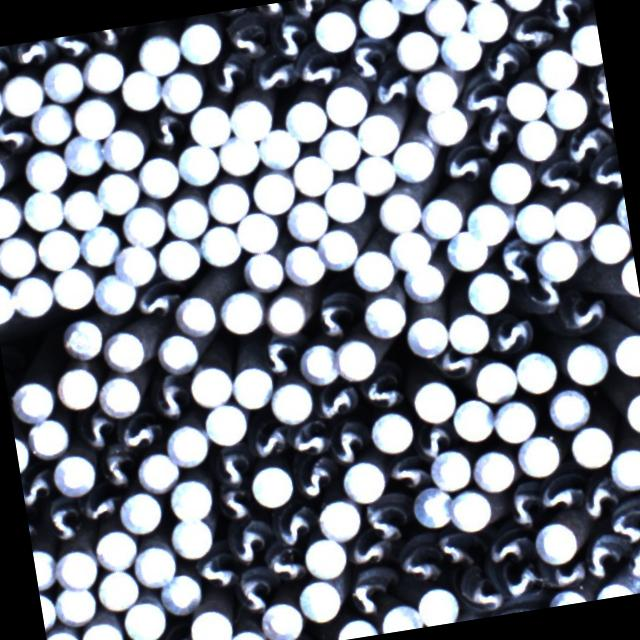tool: (530, 518, 584, 570), (295, 575, 347, 626), (162, 190, 212, 242), (514, 429, 566, 479), (359, 290, 409, 341), (409, 374, 459, 425), (48, 262, 98, 312), (489, 395, 539, 445), (133, 150, 183, 200), (262, 288, 312, 338), (116, 485, 166, 535), (402, 310, 452, 360), (338, 456, 388, 506), (8, 379, 58, 429), (164, 418, 212, 470), (470, 446, 519, 496), (217, 286, 266, 336), (247, 165, 296, 215), (366, 406, 416, 455), (566, 421, 616, 470), (131, 538, 180, 588), (52, 363, 102, 412), (388, 224, 437, 274), (408, 483, 456, 534), (21, 143, 70, 192), (204, 175, 252, 225), (462, 266, 512, 314), (561, 339, 611, 387), (174, 137, 222, 187), (226, 362, 276, 410), (266, 378, 316, 426), (92, 565, 142, 613), (512, 347, 560, 396), (202, 398, 250, 447), (444, 309, 493, 357), (68, 91, 117, 139), (469, 356, 518, 404), (158, 66, 206, 115), (90, 269, 139, 317), (119, 200, 168, 248), (348, 244, 396, 293), (418, 194, 467, 242), (389, 136, 438, 184), (94, 372, 142, 421), (39, 54, 86, 104), (92, 168, 142, 215), (32, 225, 82, 272), (486, 158, 536, 205), (54, 543, 101, 593), (49, 450, 96, 500), (316, 120, 362, 171), (316, 221, 362, 272), (544, 384, 592, 432), (100, 124, 148, 172), (238, 246, 286, 294), (532, 43, 580, 91), (586, 218, 634, 266), (58, 314, 106, 362), (153, 328, 201, 376), (322, 80, 370, 128), (300, 534, 348, 582), (314, 494, 362, 542), (168, 512, 216, 560), (533, 233, 580, 282), (319, 176, 366, 225), (23, 412, 70, 461), (448, 484, 494, 534), (450, 394, 496, 444), (232, 208, 280, 255), (427, 444, 474, 492), (154, 235, 202, 282), (282, 196, 329, 244), (374, 186, 422, 233), (509, 198, 557, 245), (111, 240, 158, 288), (18, 186, 66, 233), (311, 5, 358, 53), (550, 195, 598, 242), (134, 447, 182, 494), (226, 95, 274, 142), (100, 326, 148, 373), (442, 228, 491, 274), (514, 115, 560, 164), (58, 184, 104, 233), (0, 70, 46, 119), (80, 46, 126, 95), (196, 222, 243, 269), (279, 240, 326, 287), (187, 361, 234, 408), (422, 101, 469, 148), (60, 131, 106, 179), (10, 272, 56, 320), (542, 84, 590, 130), (176, 18, 222, 66), (468, 197, 514, 245), (172, 292, 220, 338), (93, 524, 139, 572), (354, 110, 402, 156), (255, 596, 305, 640), (27, 100, 74, 146), (332, 336, 378, 383), (414, 581, 460, 628), (502, 75, 548, 122), (256, 126, 302, 172), (186, 101, 232, 147), (400, 256, 446, 302), (412, 64, 458, 110), (463, 0, 510, 45), (159, 569, 204, 616), (121, 596, 169, 640), (216, 132, 261, 178), (136, 31, 182, 76), (76, 222, 121, 268), (284, 96, 329, 142), (118, 67, 164, 112), (52, 583, 98, 628), (295, 342, 340, 388), (248, 464, 294, 509), (393, 28, 440, 72), (351, 151, 396, 196), (0, 229, 39, 280), (354, 0, 401, 42), (289, 152, 333, 196), (184, 603, 235, 640), (441, 29, 483, 71), (420, 0, 466, 37), (568, 20, 603, 67), (376, 600, 422, 634), (32, 540, 62, 592), (608, 444, 640, 492), (610, 330, 640, 378), (77, 614, 127, 640), (332, 613, 379, 640), (0, 190, 23, 239), (616, 256, 640, 300), (621, 389, 640, 435), (221, 624, 269, 640), (0, 279, 16, 324), (500, 0, 548, 13), (391, 0, 434, 14), (45, 625, 85, 640), (0, 149, 10, 196)
tool_b: (310, 278, 362, 342), (342, 30, 397, 86), (343, 566, 402, 618), (394, 530, 446, 589), (290, 41, 347, 94), (551, 288, 613, 336), (217, 12, 274, 64), (362, 64, 421, 114), (362, 491, 416, 544), (451, 562, 504, 616), (468, 110, 521, 163), (354, 363, 408, 415), (265, 502, 323, 550), (249, 45, 300, 99), (437, 137, 492, 187), (475, 31, 524, 86), (458, 66, 505, 121), (230, 562, 276, 618), (310, 374, 362, 423), (484, 310, 536, 359), (282, 412, 332, 462), (149, 374, 197, 426), (290, 454, 342, 502), (433, 522, 485, 570), (42, 492, 88, 546), (379, 450, 434, 495), (205, 52, 254, 102), (255, 331, 302, 383), (344, 526, 396, 572), (502, 477, 544, 533), (497, 235, 539, 290), (536, 466, 584, 514), (584, 530, 630, 580), (558, 124, 610, 168), (268, 13, 316, 60), (143, 106, 192, 152), (510, 274, 560, 319), (225, 520, 273, 566), (210, 440, 253, 490), (327, 416, 371, 464), (486, 525, 534, 569), (116, 411, 165, 454), (95, 444, 138, 493), (263, 542, 308, 588), (192, 552, 238, 596), (412, 419, 456, 465), (498, 558, 546, 600), (215, 482, 259, 527), (540, 554, 592, 592), (586, 146, 624, 197), (534, 156, 578, 200), (509, 11, 554, 54), (245, 418, 288, 462), (580, 475, 620, 522), (435, 343, 483, 382), (134, 280, 180, 320), (80, 484, 124, 524), (76, 408, 114, 453), (606, 498, 640, 545), (542, 0, 593, 31), (0, 111, 31, 155), (20, 466, 53, 506), (52, 32, 95, 62), (584, 68, 610, 110), (288, 0, 335, 23), (15, 39, 52, 68), (92, 26, 134, 51), (622, 537, 640, 576), (154, 628, 195, 640), (0, 45, 14, 77)
